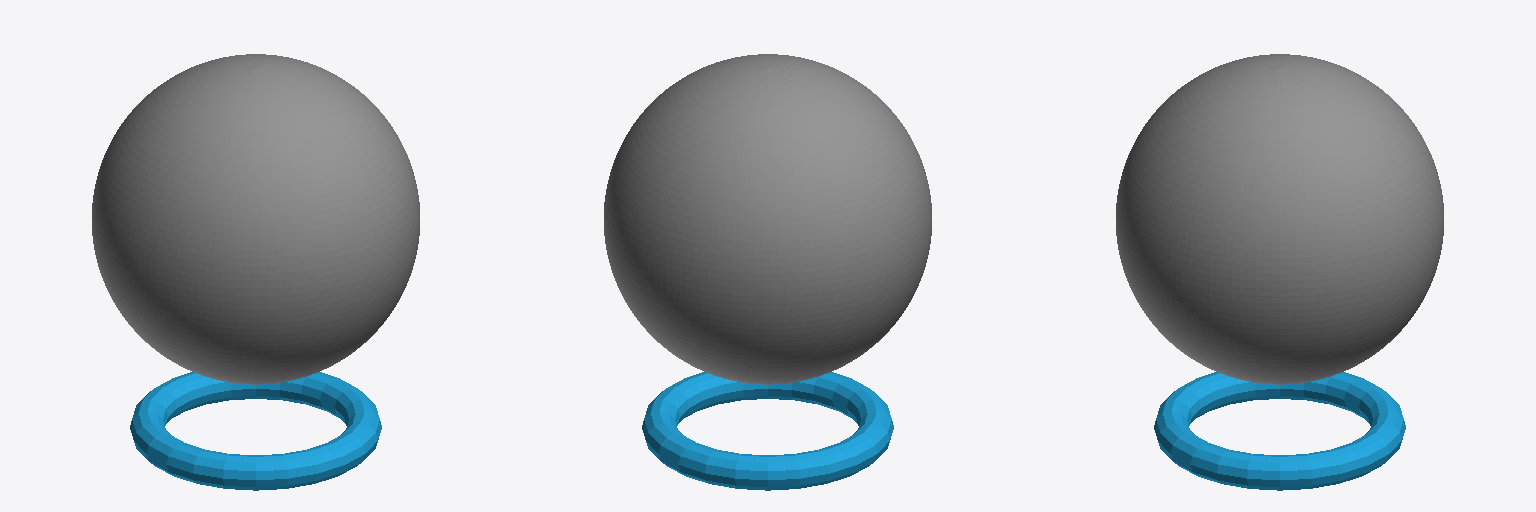
The model's file is bolaOBJ.obj.
The picture shows the model from 3 angles: view 1: azimuth 30°, elevation 25°; view 2: azimuth 150°, elevation 25°; view 3: azimuth 270°, elevation 25°; orthographic projection.
Parts seen in each view (by area): view 1: Sphere003, Torus002; view 2: Sphere003, Torus002; view 3: Sphere003, Torus002.
Part boxes in pixels (x1,y1,x2,y2): Sphere003: (92, 54, 419, 384); Torus002: (130, 372, 381, 490); Sphere003: (604, 54, 931, 384); Torus002: (642, 372, 893, 490); Sphere003: (1116, 54, 1443, 384); Torus002: (1154, 372, 1405, 490).
Size of the model in its own units: 164 by 206 by 164.